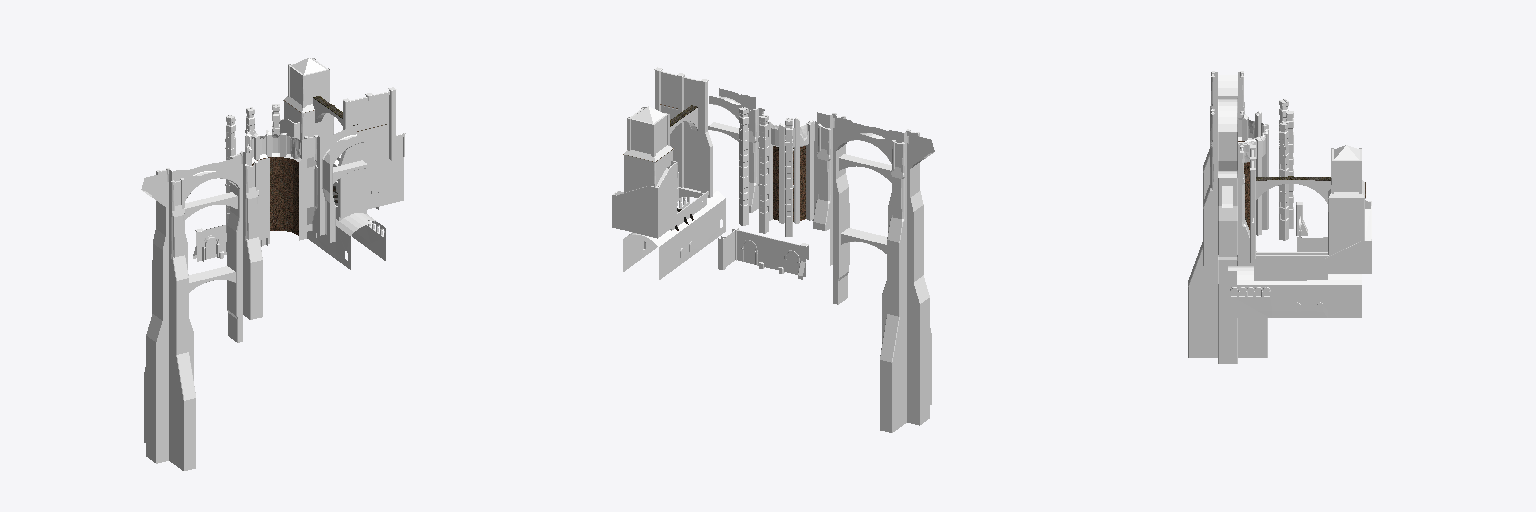
The picture shows the model from 3 angles: view 1: azimuth 30°, elevation 25°; view 2: azimuth 150°, elevation 25°; view 3: azimuth 270°, elevation 25°; orthographic projection.
Visible parts, largest first — view 1: mesh25, mesh23, mesh5, mesh29, mesh28, mesh18, mesh17, mesh2, mesh9, mesh0, mesh26, mesh19 (+2 smaller); view 2: mesh23, mesh25, mesh17, mesh0, mesh5, mesh18, mesh2, mesh6, mesh19, mesh20, mesh9, mesh29 (+3 smaller); view 3: mesh25, mesh23, mesh17, mesh18, mesh6, mesh0, mesh9, mesh28, mesh2, mesh7.
Part boxes in pixels (x1,y1,x2,y2): mesh25: (144, 138, 335, 470); mesh23: (141, 127, 367, 342); mesh5: (350, 91, 403, 213); mesh29: (252, 157, 298, 235); mesh28: (307, 131, 352, 235); mesh18: (307, 192, 385, 269); mesh17: (279, 98, 378, 212); mesh2: (338, 90, 404, 217); mesh9: (289, 59, 384, 237); mesh0: (225, 104, 279, 232); mesh26: (185, 160, 366, 282); mesh19: (197, 225, 265, 261); mesh23: (708, 88, 934, 304); mesh25: (749, 112, 931, 432); mesh17: (612, 108, 708, 238); mesh0: (739, 107, 793, 236); mesh5: (661, 71, 700, 190); mesh18: (623, 188, 725, 279); mesh2: (655, 70, 712, 197); mesh6: (625, 149, 710, 260); mesh19: (723, 230, 805, 276); mesh20: (718, 228, 808, 279); mesh9: (628, 108, 688, 207); mesh29: (773, 146, 805, 221); mesh25: (1188, 76, 1267, 363); mesh23: (1203, 71, 1268, 283); mesh17: (1252, 180, 1371, 280); mesh18: (1228, 266, 1361, 317); mesh6: (1258, 198, 1365, 311); mesh0: (1279, 99, 1293, 240); mesh9: (1230, 149, 1361, 296); mesh28: (1218, 170, 1237, 247); mesh2: (1250, 149, 1255, 262); mesh7: (1328, 145, 1364, 197).
Size of the model in its own units: 84.47 by 91.02 by 49.51.
30 materials, 4 textured.